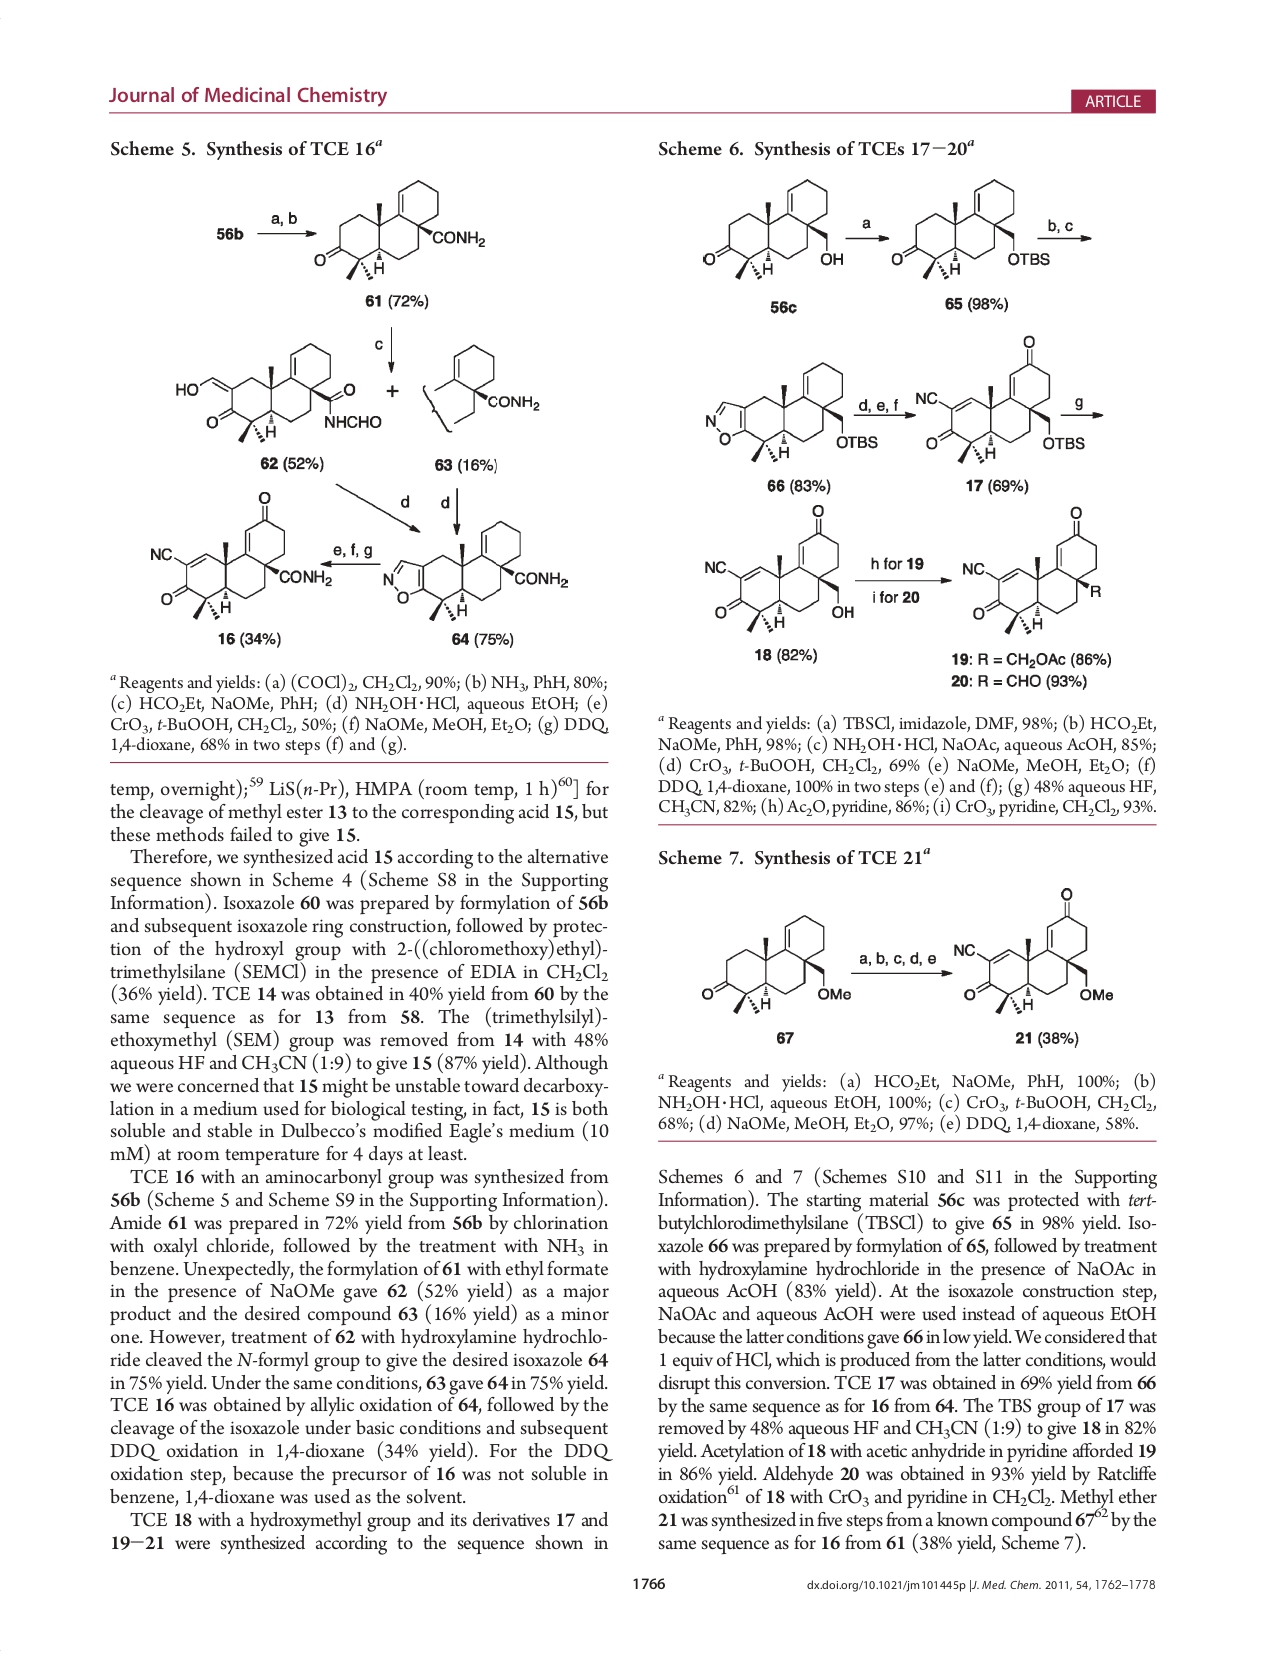exist_molecular: (148, 488, 336, 624), (914, 332, 1089, 465), (949, 884, 1114, 1024), (170, 340, 386, 446), (696, 501, 855, 636), (382, 519, 570, 624), (313, 176, 487, 283), (961, 501, 1101, 636), (701, 360, 880, 463), (887, 176, 1052, 283), (698, 907, 852, 1021), (697, 176, 844, 286), (432, 340, 543, 426)
